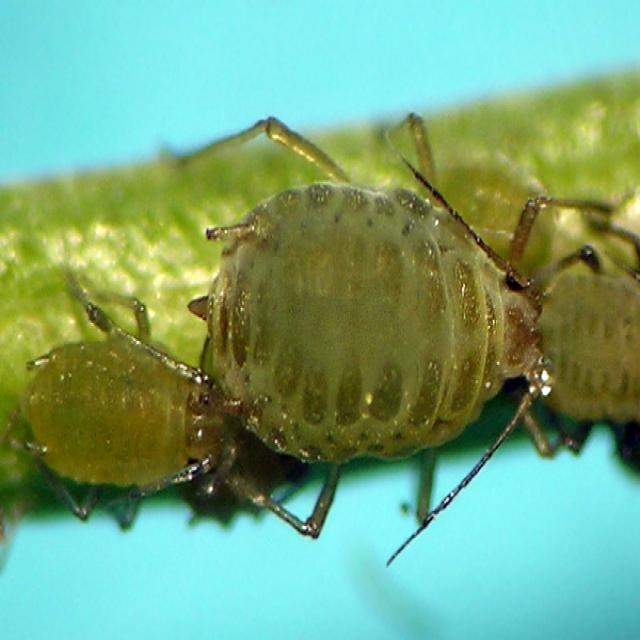aphid: (189, 168, 562, 477), (18, 316, 234, 528)
